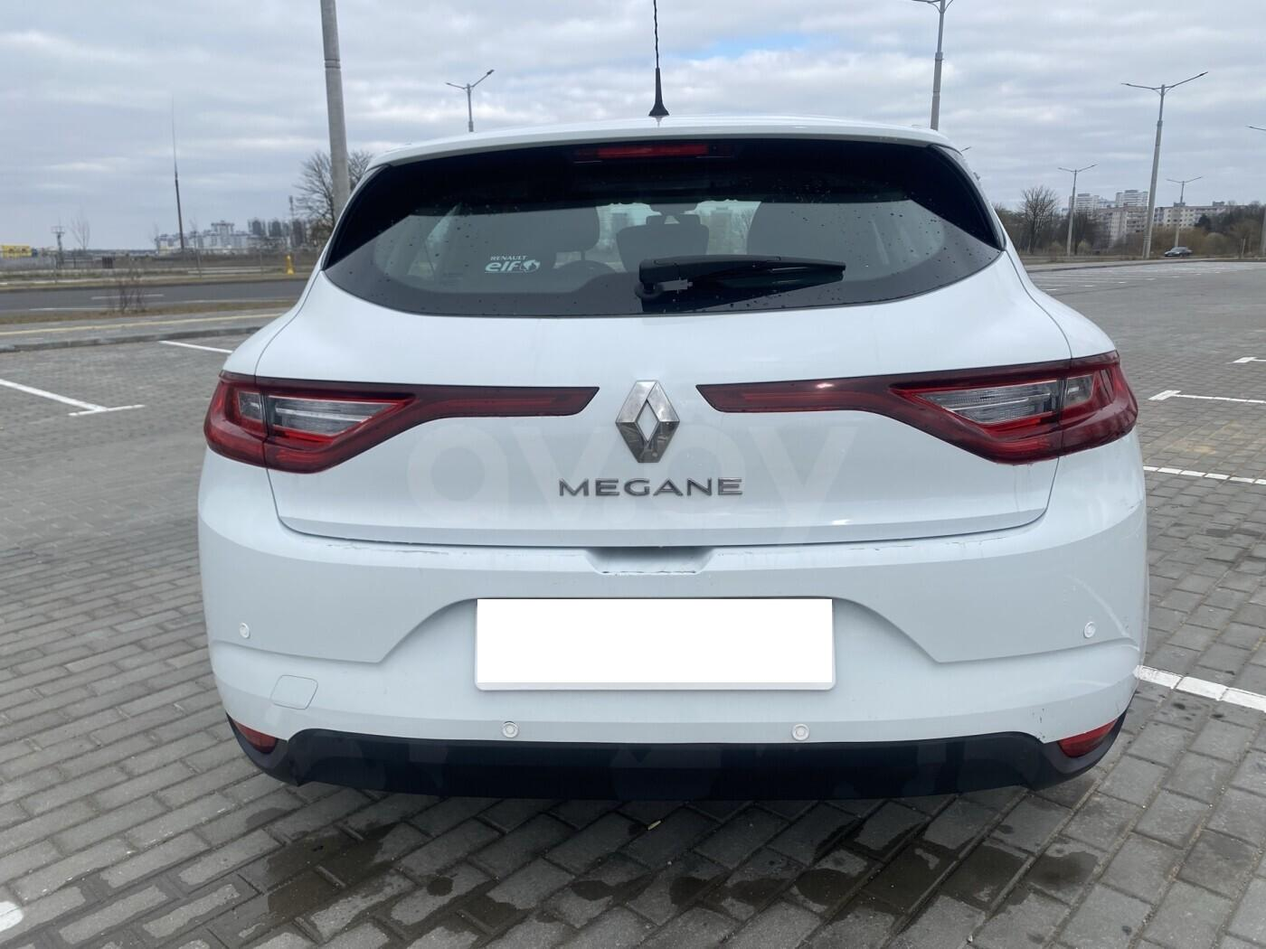Megane_2016-2020: (187, 116, 1155, 816)
